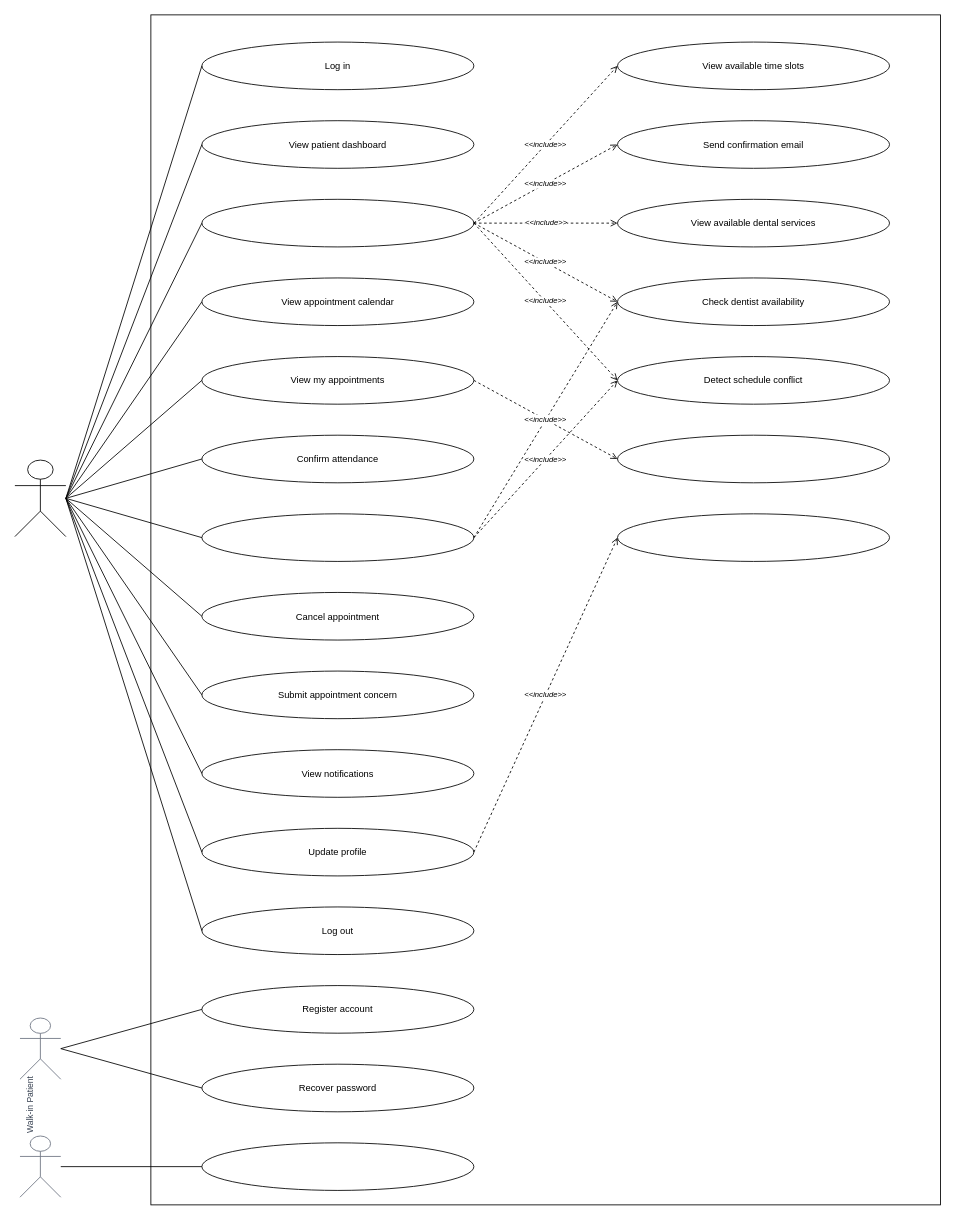
The diagram is 955 pixels wide and 1220 high, and some of its shapes have lost their labels. Here are the shapes that lost their labels. From the top down, the centre of each, then its label:
At (x=337, y=222): "Book an appointment".
At (x=753, y=458): "View appointment history".
At (x=40, y=498): "Patient".
At (x=337, y=537): "Request reschedule".
At (x=753, y=537): "Change password".
At (x=40, y=1048): "Guest".
At (x=337, y=1166): "Submit walk-in details (QR)".
